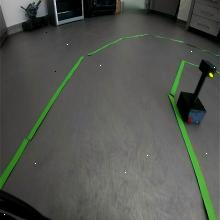green: (199, 59, 217, 80)
